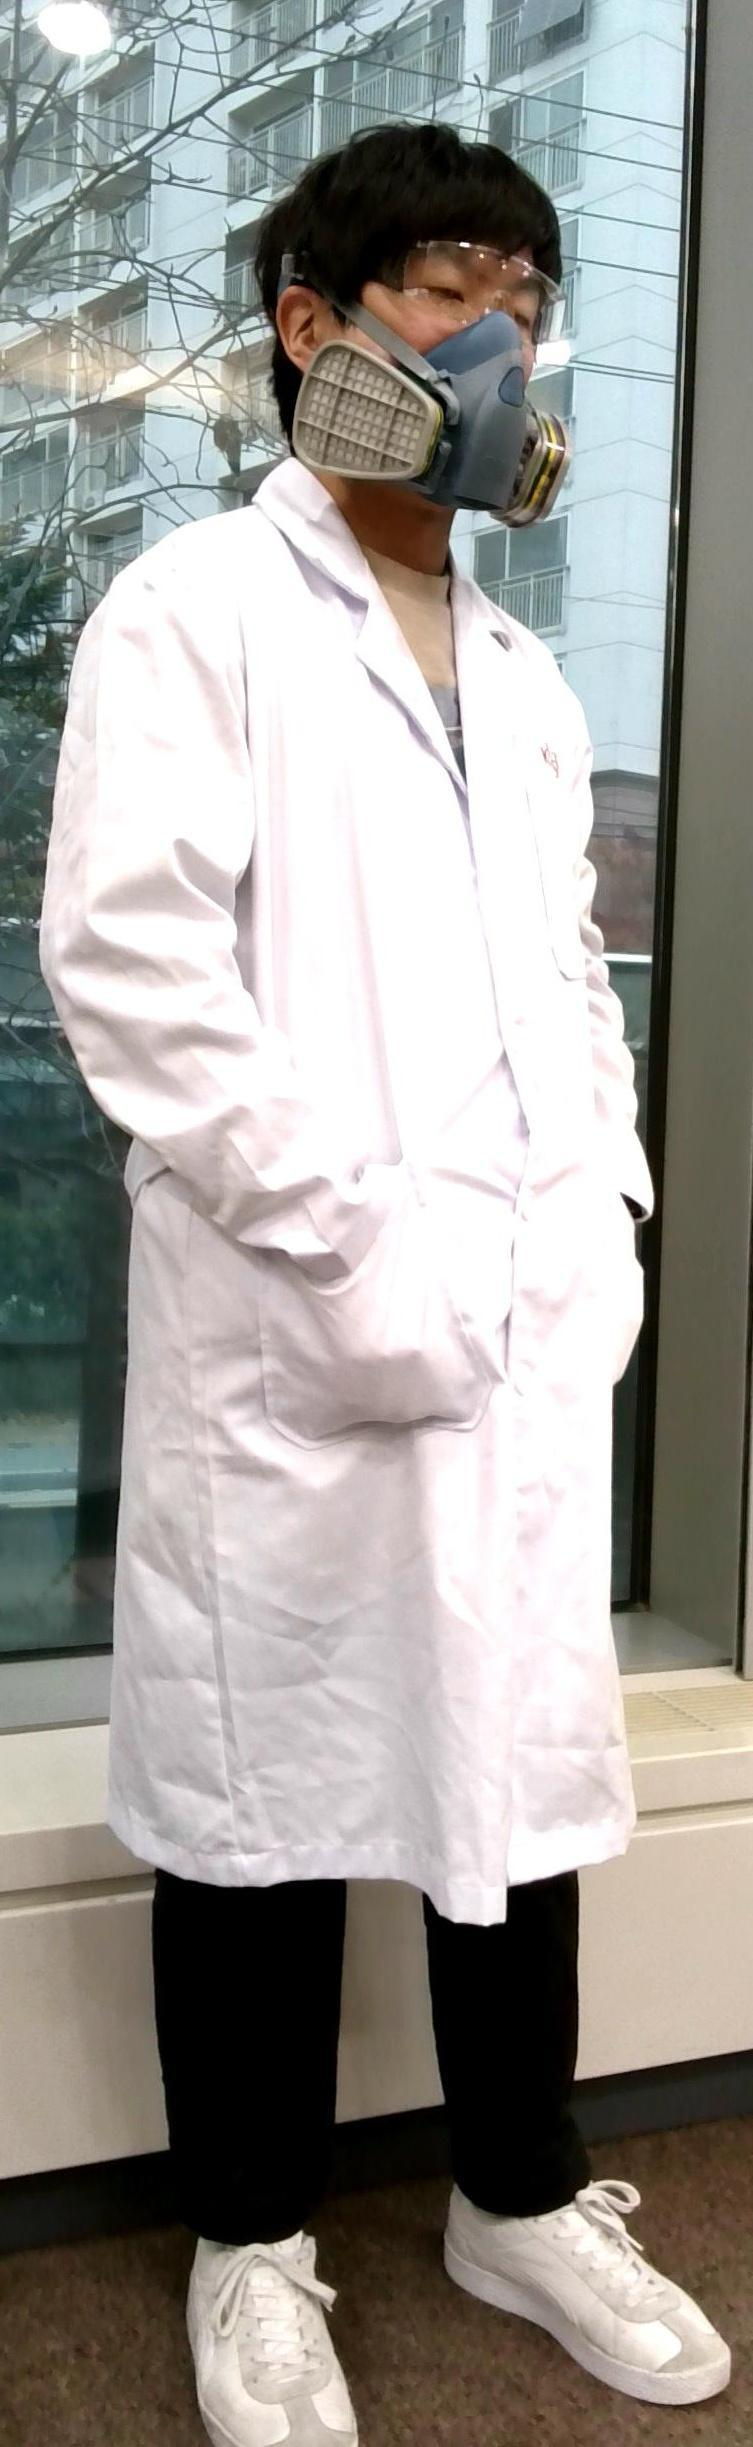lab_coat: (11, 542, 681, 1877)
